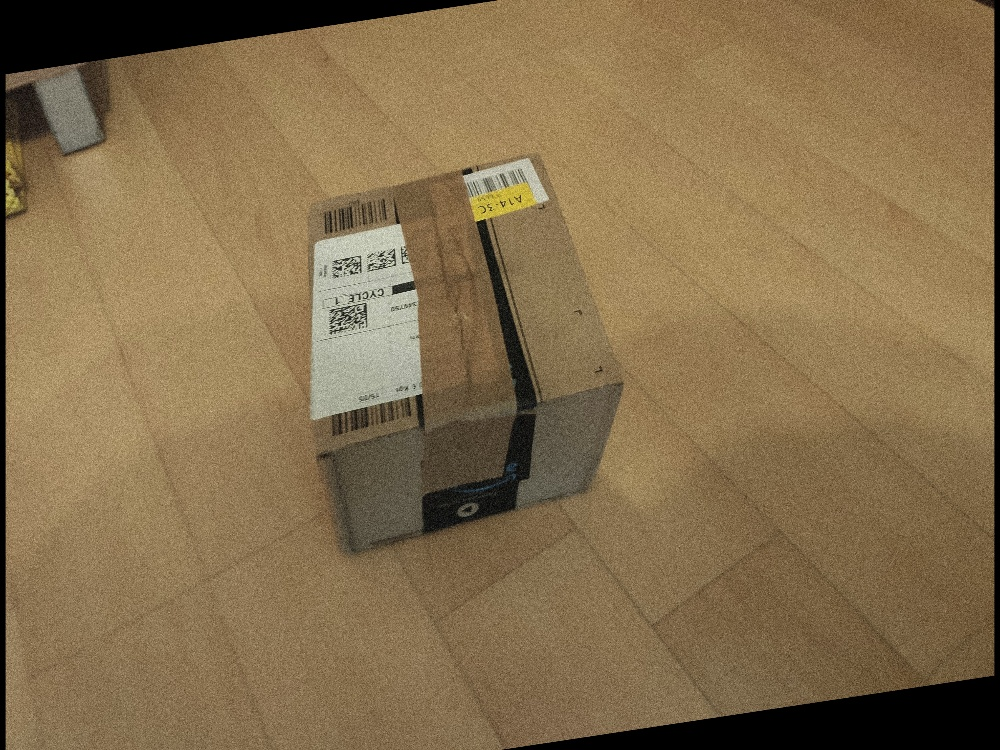good-parcel: (274, 137, 666, 568)
